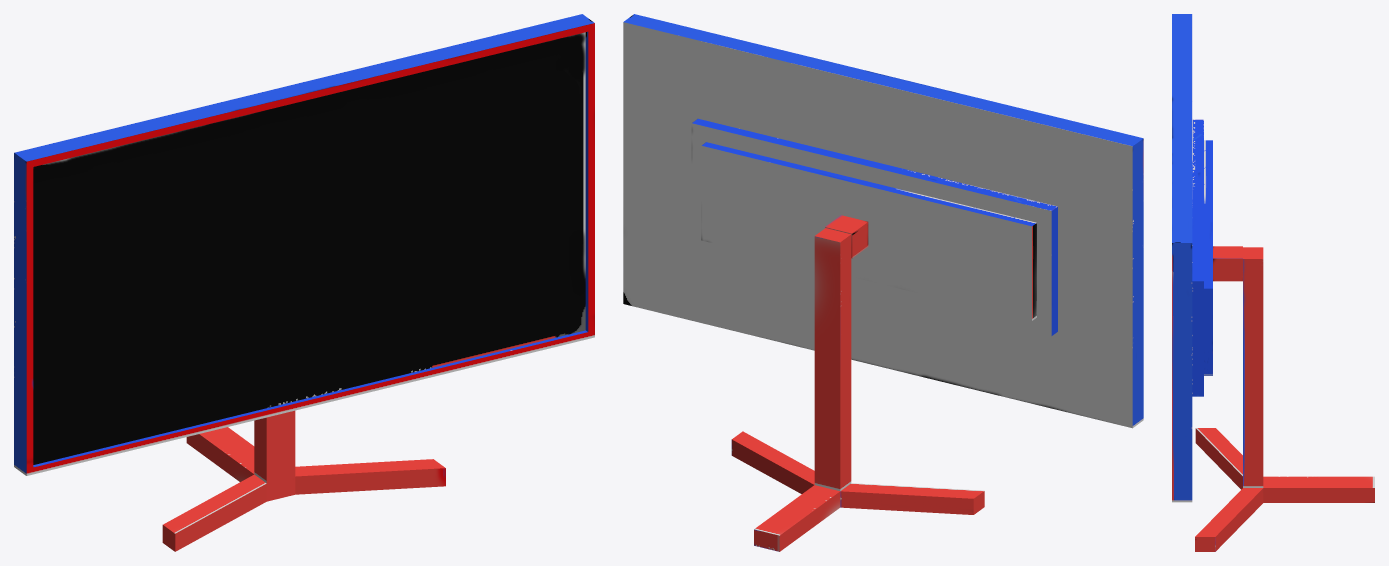
File: TexturedMonitorModel.fbx
The picture shows the model from 3 angles, left to right: view 1: azimuth 30°, elevation 25°; view 2: azimuth 150°, elevation 25°; view 3: azimuth 270°, elevation 25°; orthographic projection. The views are drawn at different scales.
Parts seen in each view (by area): view 1: Monitor; view 2: Monitor; view 3: Monitor.
Part boxes in pixels (x1,y1,x2,y2): Monitor: [14, 14, 594, 551]; Monitor: [623, 14, 1143, 551]; Monitor: [1172, 14, 1374, 551].
Size of the model in its own units: 378 by 280 by 142.
Materials: 1 (1 with a texture image).
